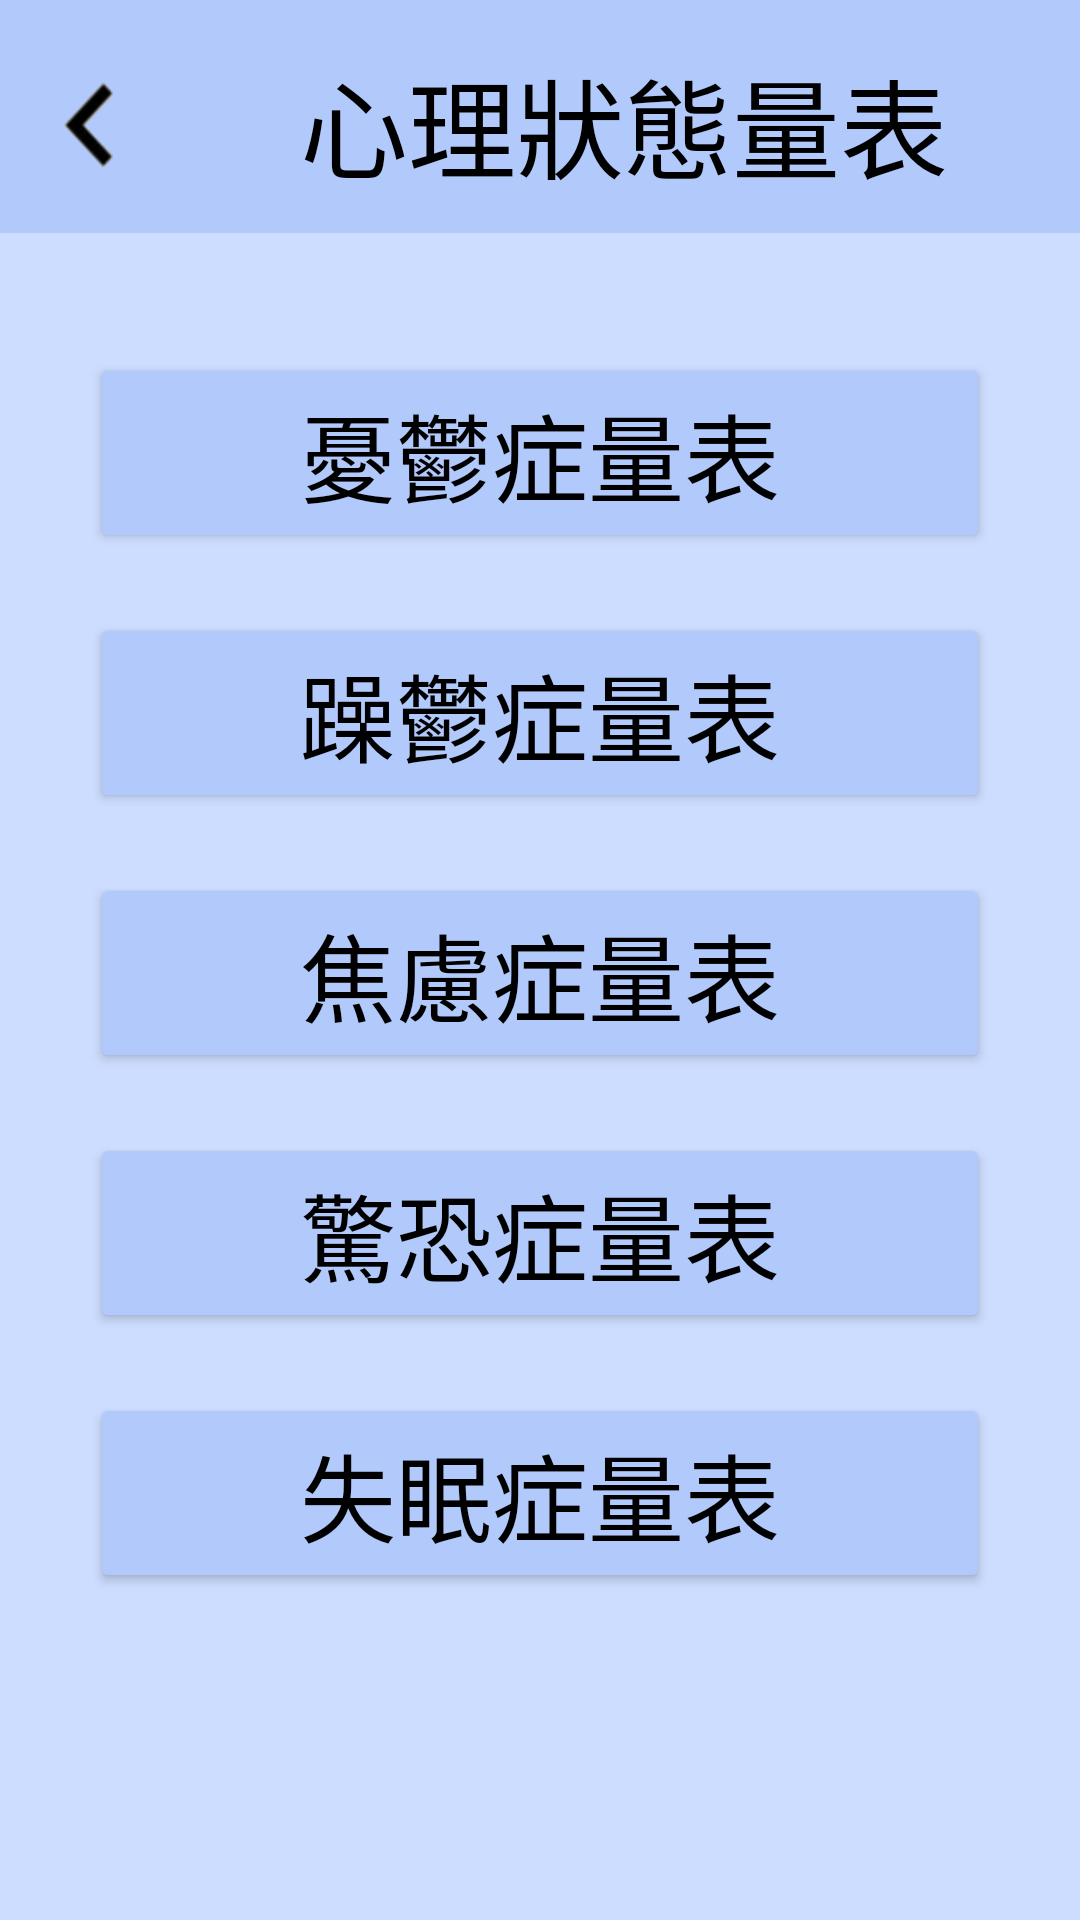

Where icons sit on this 1080×1920 app screen, as {"x1": x1, "y1": y1, "x2": x2, "y2": y2}:
back arrow: {"x1": 64, "y1": 83, "x2": 113, "y2": 167}
